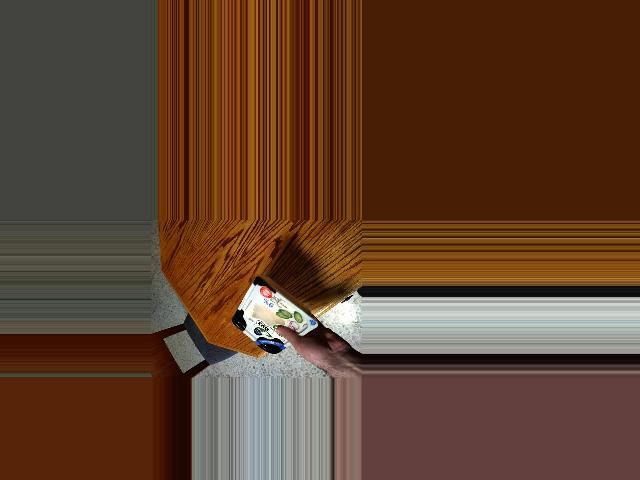cheese: (231, 281, 307, 345)
